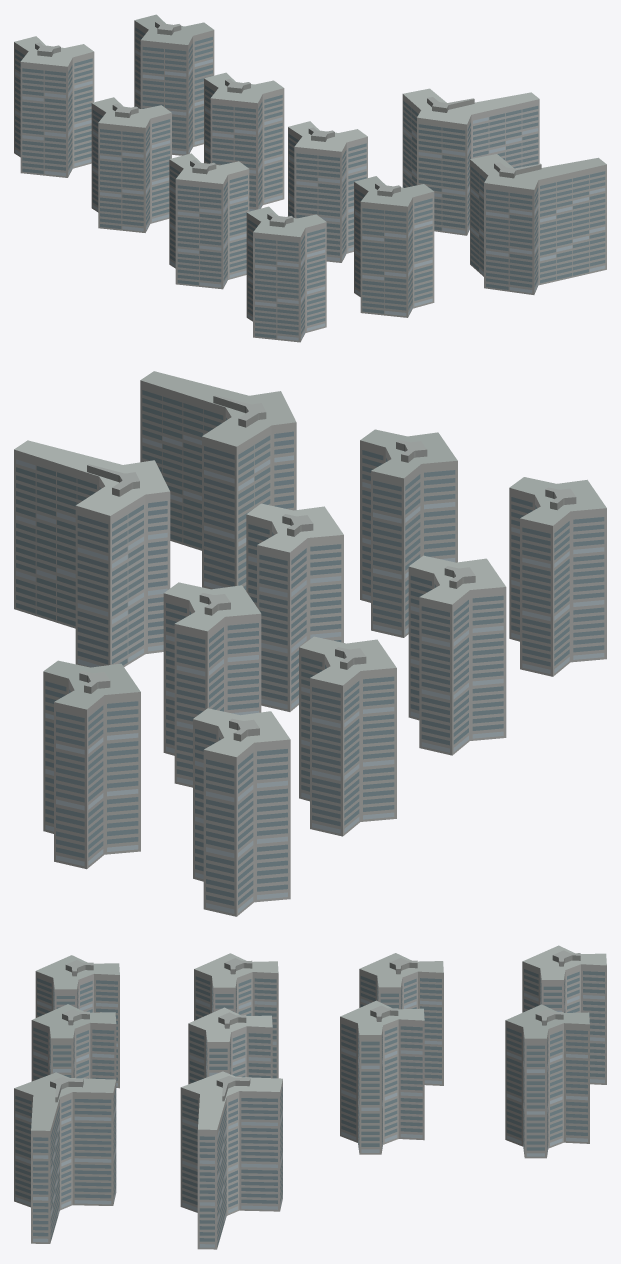
File: apt-a13070301.glb
3 renders of one model, top to bottom at view 1: azimuth 30°, elevation 25°; view 2: azimuth 150°, elevation 25°; view 3: azimuth 270°, elevation 25°, orthographic. The views are drawn at different scales.
Parts seen in each view (by area): view 1: apt-a13070301; view 2: apt-a13070301; view 3: apt-a13070301.
Part boxes in pixels (x1=…): apt-a13070301: x1=14, y1=14, x2=606, y2=342; apt-a13070301: x1=14, y1=371, x2=606, y2=916; apt-a13070301: x1=14, y1=945, x2=606, y2=1249.
Bounding box in the file's own units: 184 × 58 × 250.
